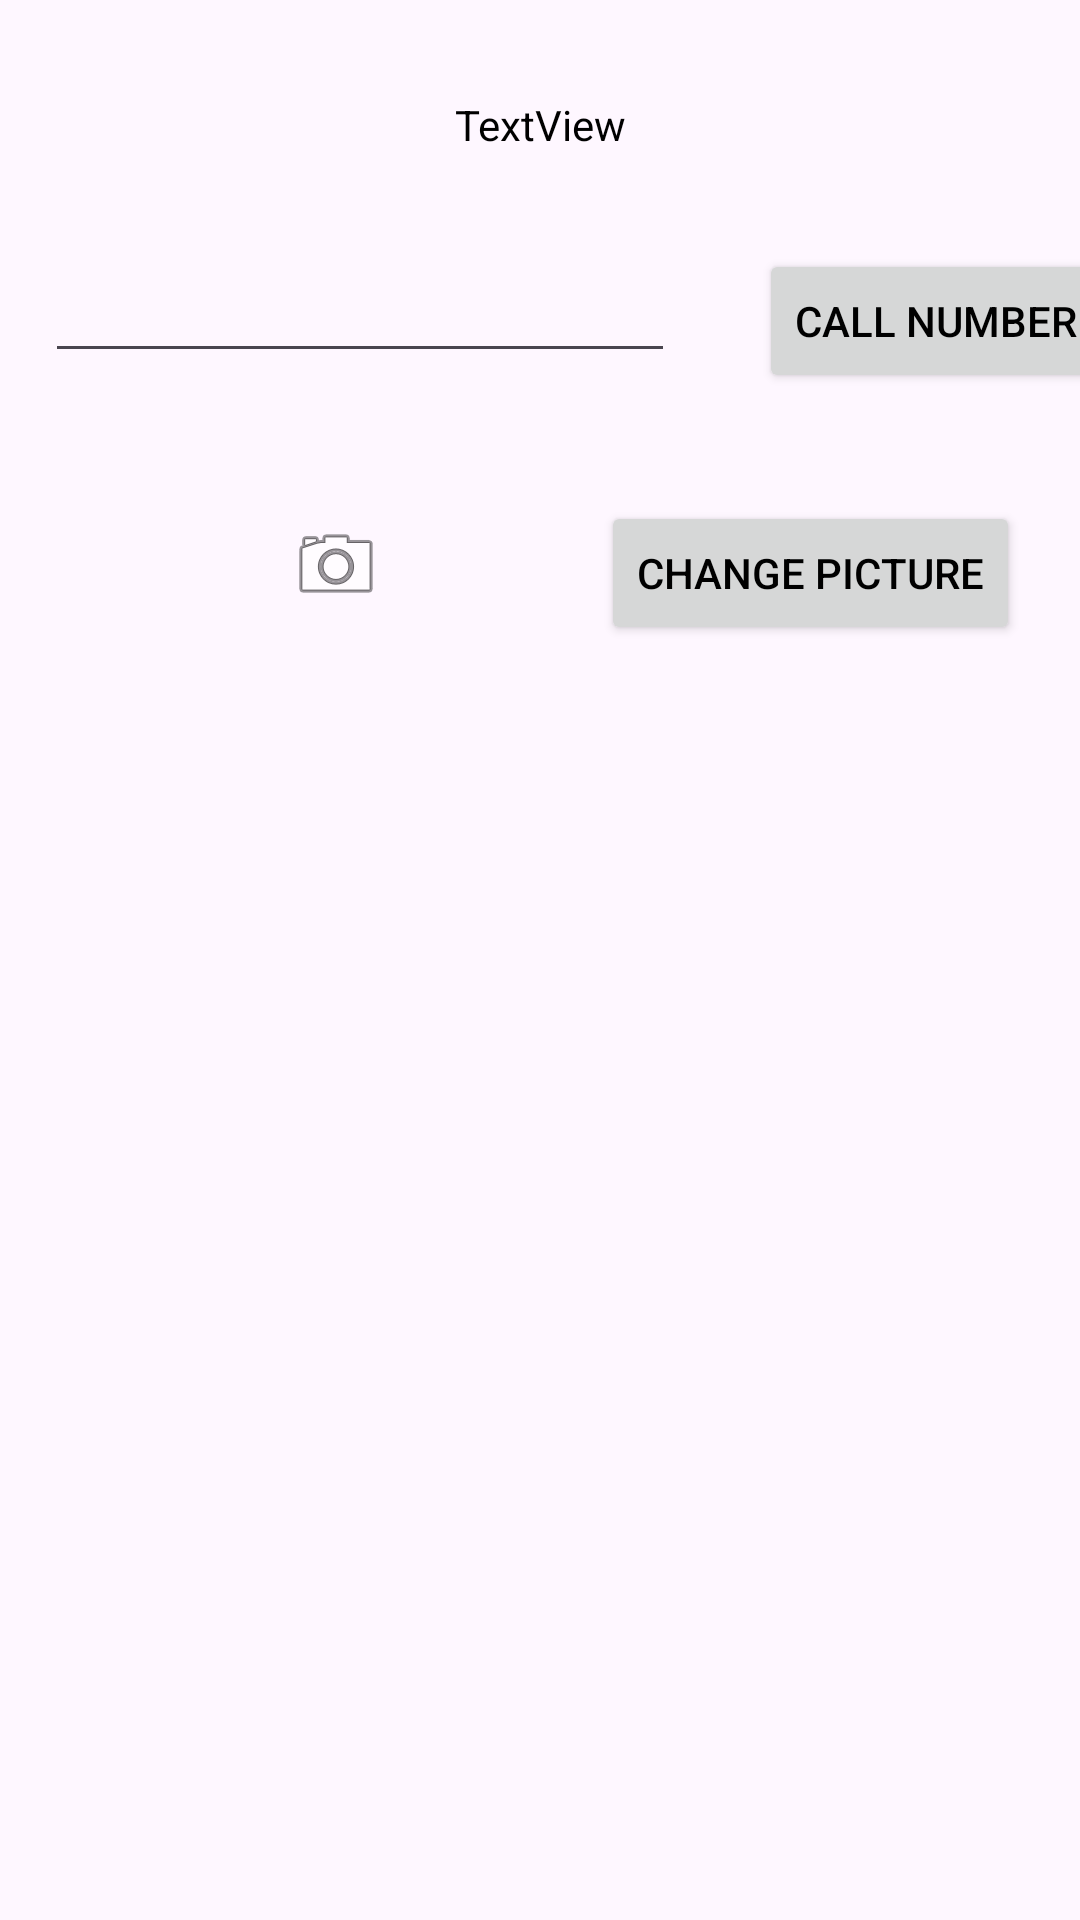

Named icons in this screenshot (1080px x 1920px) and their bounding boxes, {"x1": x1, "y1": y1, "x2": x2, "y2": y2}:
camera: {"x1": 299, "y1": 534, "x2": 373, "y2": 593}
